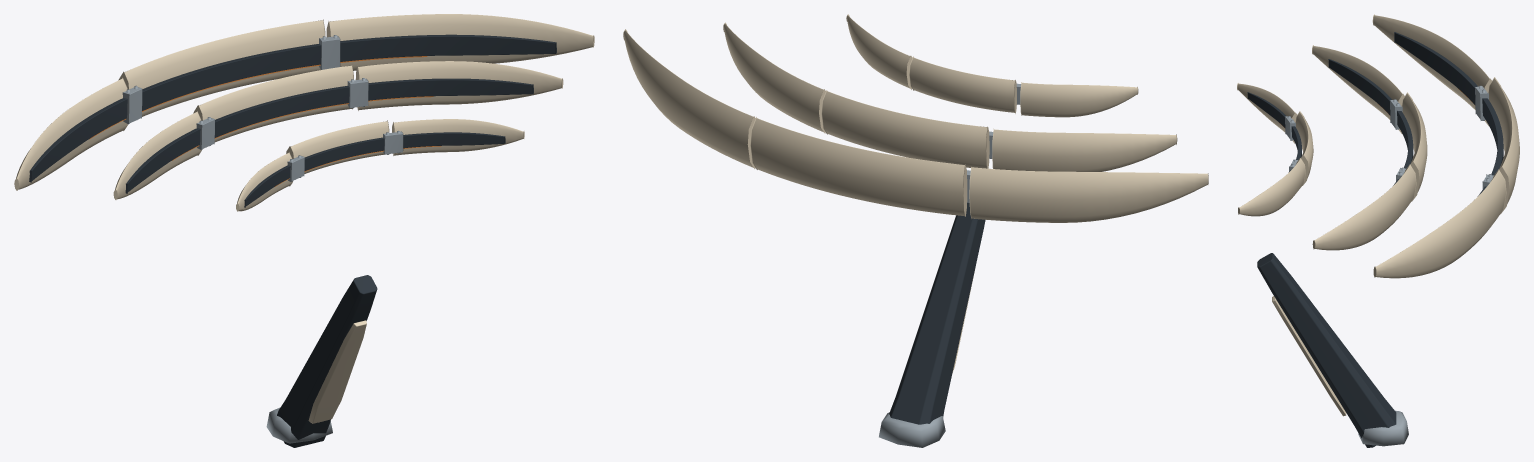
Rendered from RelayReactor.fbx.
3 renders of one model, left to right at view 1: azimuth 30°, elevation 25°; view 2: azimuth 150°, elevation 25°; view 3: azimuth 270°, elevation 25°, orthographic. The views are drawn at different scales.
Visible parts, largest first — view 1: CrownOuter_Mount, CrownMid_Mount, CrownInner_Mount, AnchorStrut_Mount; view 2: CrownOuter_Mount, CrownMid_Mount, AnchorStrut_Mount, CrownInner_Mount; view 3: CrownOuter_Mount, AnchorStrut_Mount, CrownMid_Mount, CrownInner_Mount.
Part boxes in pixels (bbox=[...]): CrownOuter_Mount: bbox=[14, 14, 594, 190]; CrownMid_Mount: bbox=[113, 61, 563, 199]; CrownInner_Mount: bbox=[236, 119, 524, 211]; AnchorStrut_Mount: bbox=[266, 275, 377, 447]; CrownOuter_Mount: bbox=[623, 29, 1208, 222]; CrownMid_Mount: bbox=[723, 22, 1177, 171]; AnchorStrut_Mount: bbox=[879, 203, 985, 447]; CrownInner_Mount: bbox=[846, 14, 1138, 117]; CrownOuter_Mount: bbox=[1372, 14, 1519, 278]; AnchorStrut_Mount: bbox=[1257, 253, 1408, 447]; CrownMid_Mount: bbox=[1312, 45, 1427, 250]; CrownInner_Mount: bbox=[1237, 83, 1313, 216].
Bounding box in the file's own units: 14.26 × 8.2 × 6.68.
